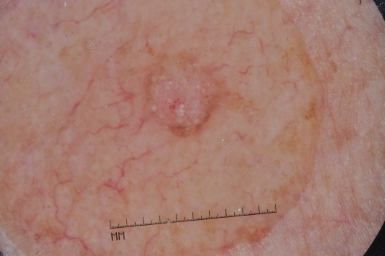seborrheic keratosis: (111, 41, 249, 163)
